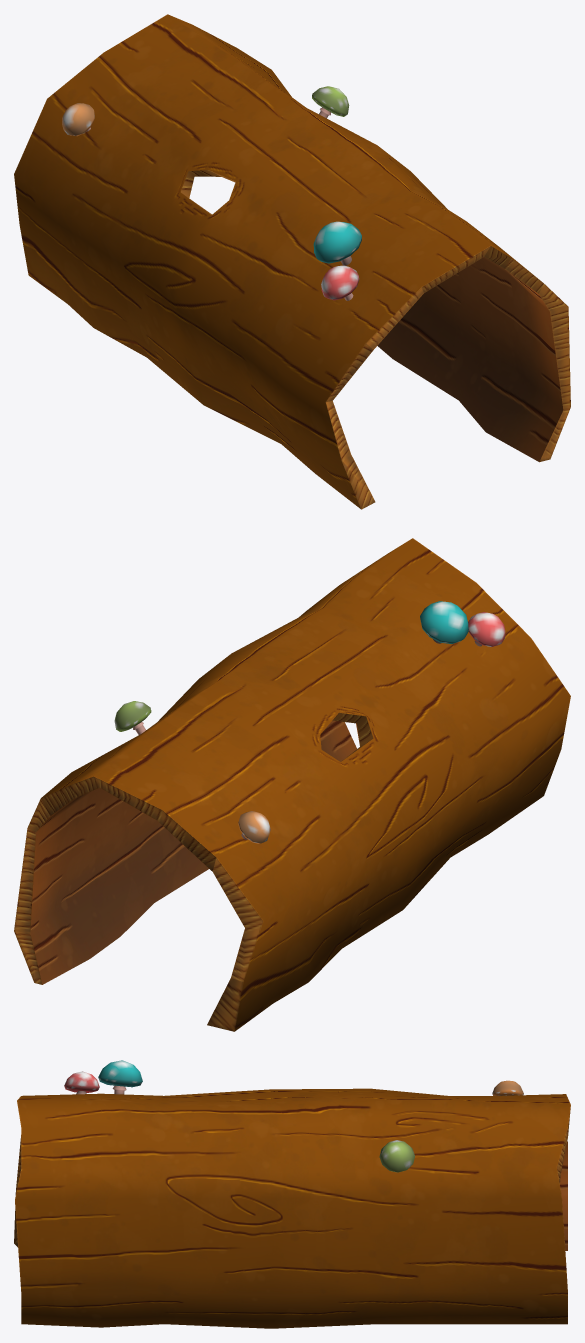
Rendered from Wood-02.fbx.
The picture shows the model from 3 angles, top to bottom: view 1: azimuth 30°, elevation 25°; view 2: azimuth 150°, elevation 25°; view 3: azimuth 270°, elevation 25°; orthographic projection. The views are drawn at different scales.
Visible parts, largest first — view 1: polySurface1; view 2: polySurface1; view 3: polySurface1.
Part boxes in pixels (x1,y1,x2,y2): polySurface1: (14,14,570,509); polySurface1: (14,538,570,1031); polySurface1: (14,1060,570,1328).
Bounding box in the file's own units: 492 × 435 × 1094.
1 material, 1 textured.
